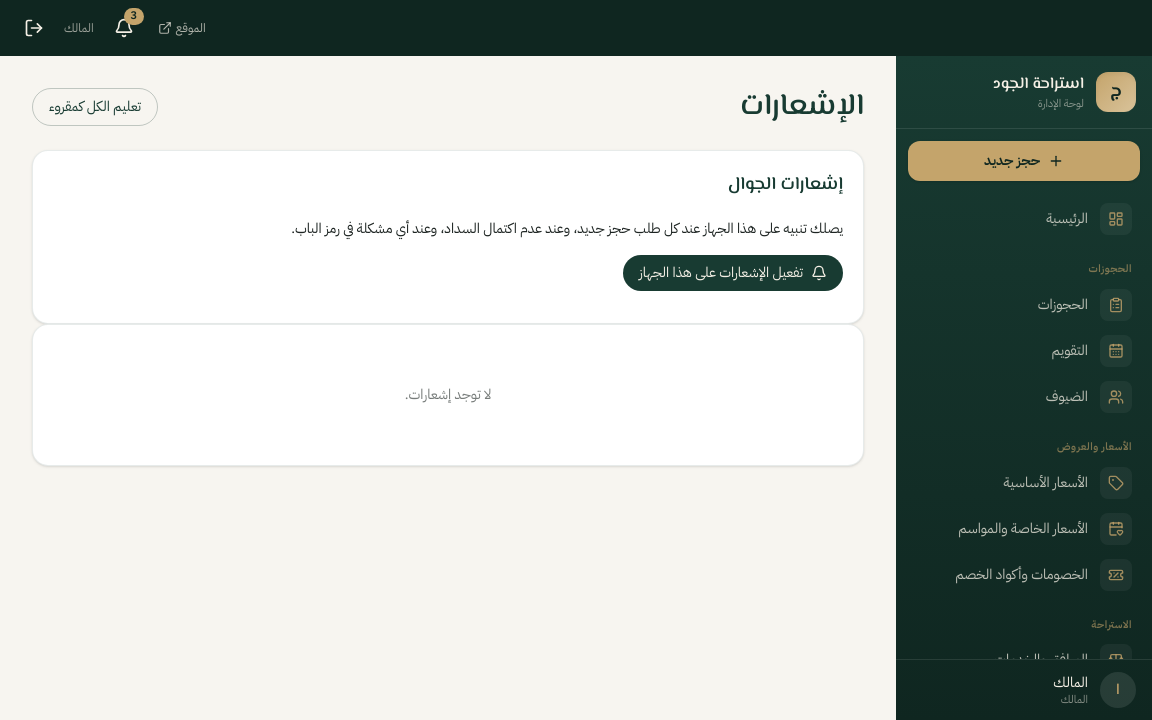
Test: phone notifications card › subscribes this device and sends its keys to the server
Click the button "تفعيل الإشعارات على هذا الجهاز" at (733, 273), box top-left (623, 255), bottom-right (843, 291)
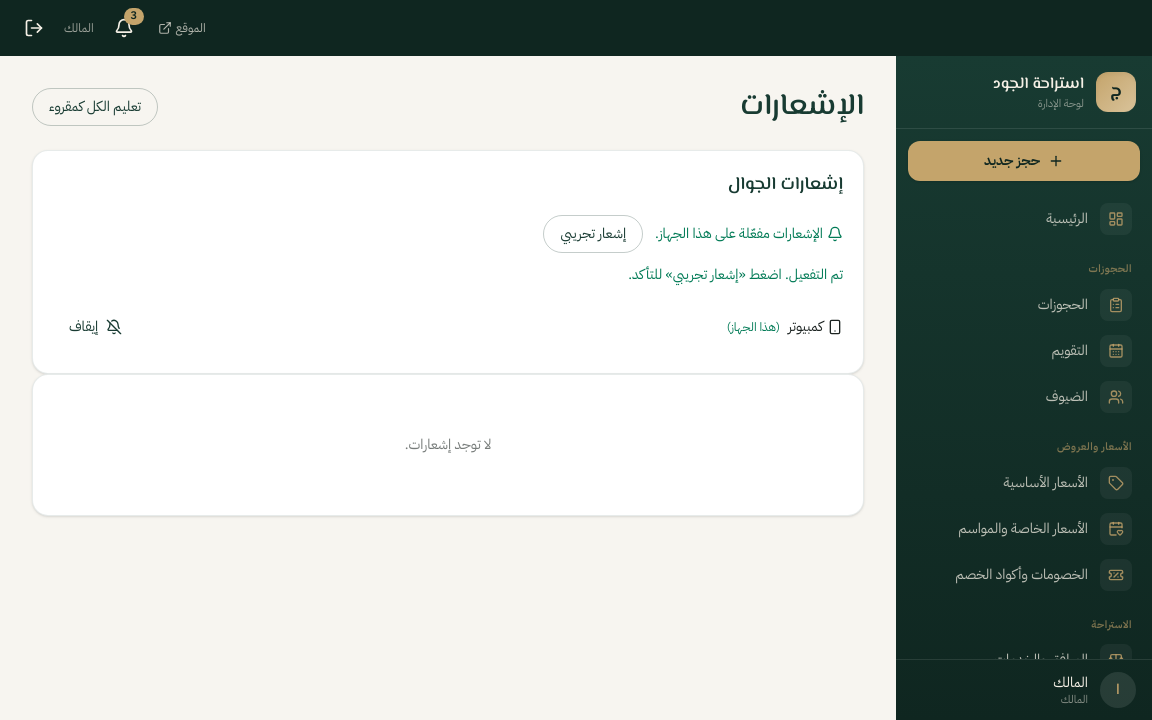
Expected: the text "الإشعارات مفعّلة على هذا الجهاز." is shown, top-left (655, 224), bottom-right (843, 244)
Expected: the button "إشعار تجريبي" is shown, top-left (543, 215), bottom-right (643, 253)
